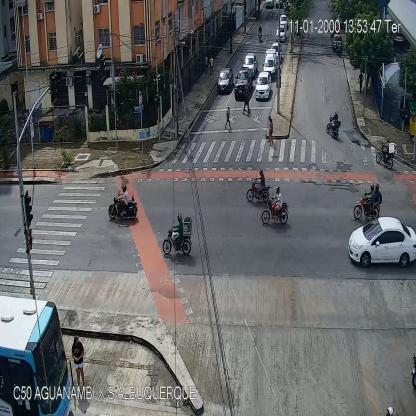bus: (0, 292, 69, 416)
car: (348, 217, 416, 267), (235, 67, 253, 98), (256, 72, 272, 100), (242, 52, 258, 76), (217, 67, 233, 90), (263, 50, 277, 74), (271, 42, 281, 62), (275, 25, 286, 43), (279, 14, 288, 30), (332, 35, 342, 49), (266, 1, 274, 9)
motorbike: (163, 213, 192, 254), (261, 187, 289, 227), (353, 181, 382, 218), (108, 186, 138, 220), (246, 169, 270, 204), (376, 136, 395, 170), (326, 110, 342, 140), (336, 40, 342, 54), (258, 23, 262, 42)
person: (72, 334, 86, 392), (242, 88, 250, 116), (225, 106, 232, 130), (358, 68, 364, 94), (268, 119, 273, 146), (209, 55, 214, 76), (204, 54, 209, 74)
